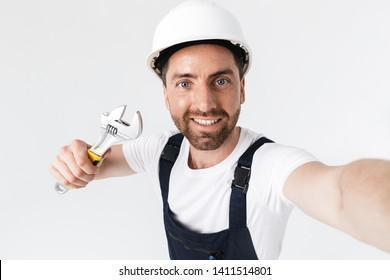helmet: (146, 0, 253, 71)
